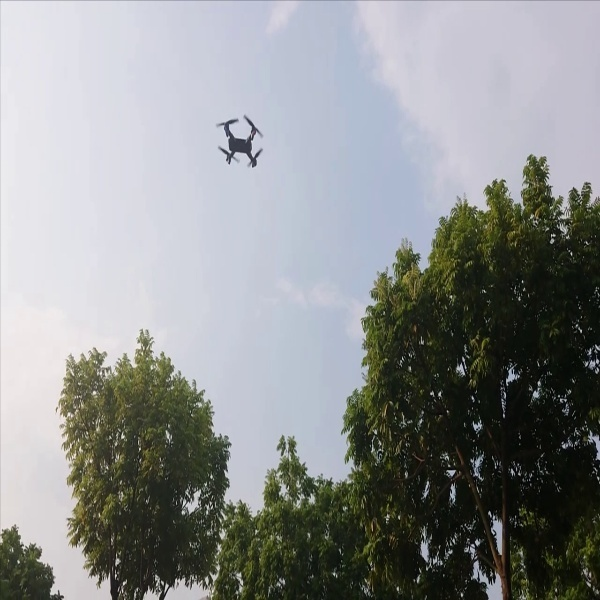drone: (213, 109, 268, 172)
